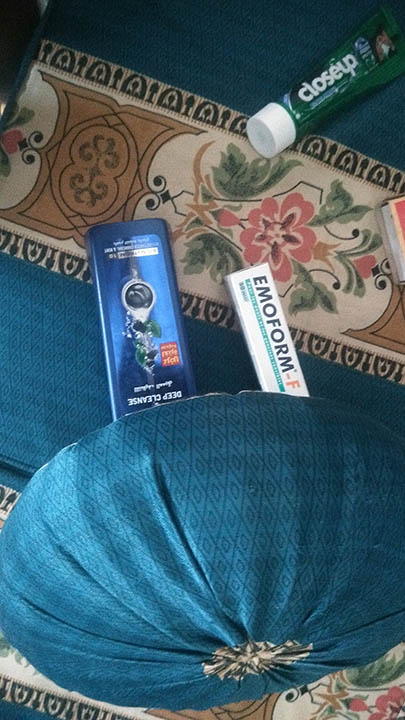Shampoo-Clear 4.7$: (81, 216, 198, 457)
Toothpaste-Closeup 3.04$: (236, 1, 405, 161)
Toothpaste-F 1.5$: (219, 260, 323, 446)
